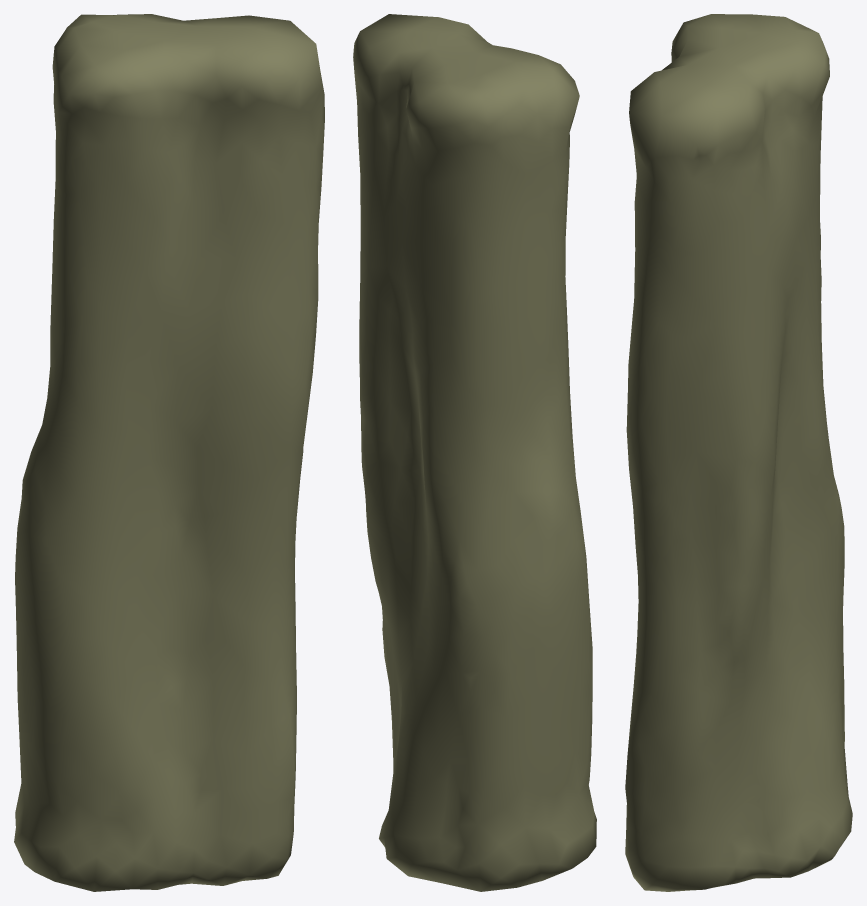
Rendered from RockPillar05.fbx.
3 renders of one model, left to right at view 1: azimuth 30°, elevation 25°; view 2: azimuth 150°, elevation 25°; view 3: azimuth 270°, elevation 25°, orthographic. The views are drawn at different scales.
Visible parts, largest first — view 1: RockPillar05; view 2: RockPillar05; view 3: RockPillar05.
Part boxes in pixels (x1=…): RockPillar05: x1=14, y1=14, x2=324, y2=891; RockPillar05: x1=353, y1=14, x2=596, y2=891; RockPillar05: x1=625, y1=14, x2=852, y2=891.
Size of the model in its own units: 0.6534 by 1.96 by 0.4997.
